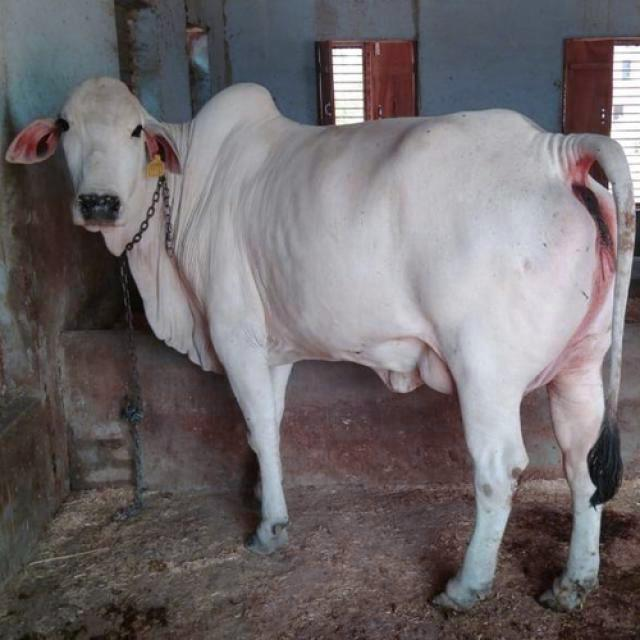cow: (8, 78, 634, 609)
